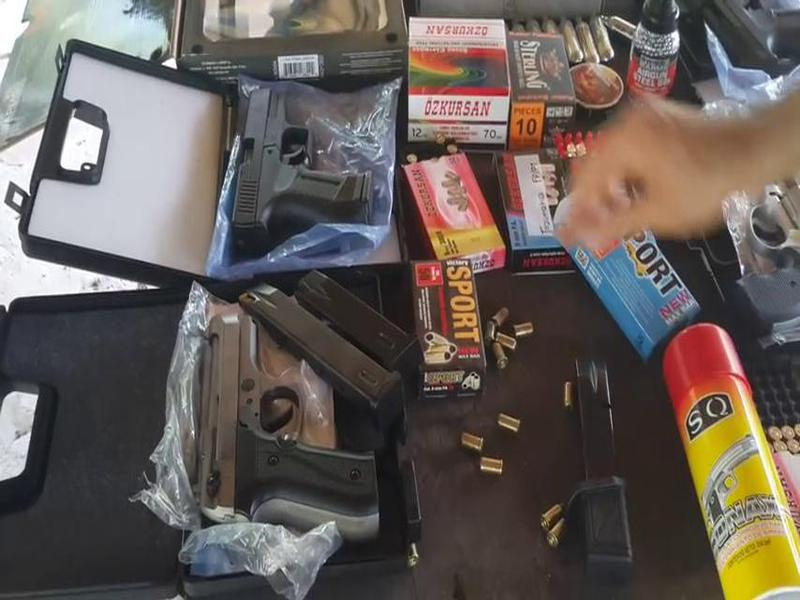Pistola: (174, 280, 384, 545), (213, 66, 399, 262)
